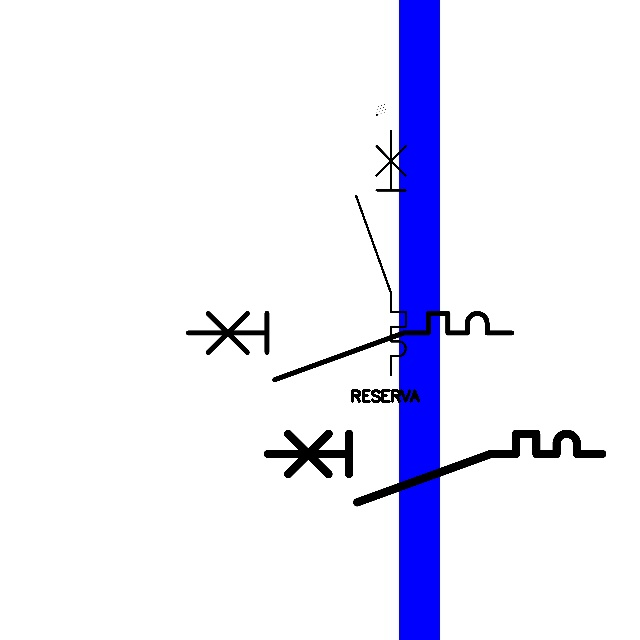interruptor_termomagnetico: (259, 425, 611, 511), (180, 305, 520, 388), (350, 124, 412, 380)
